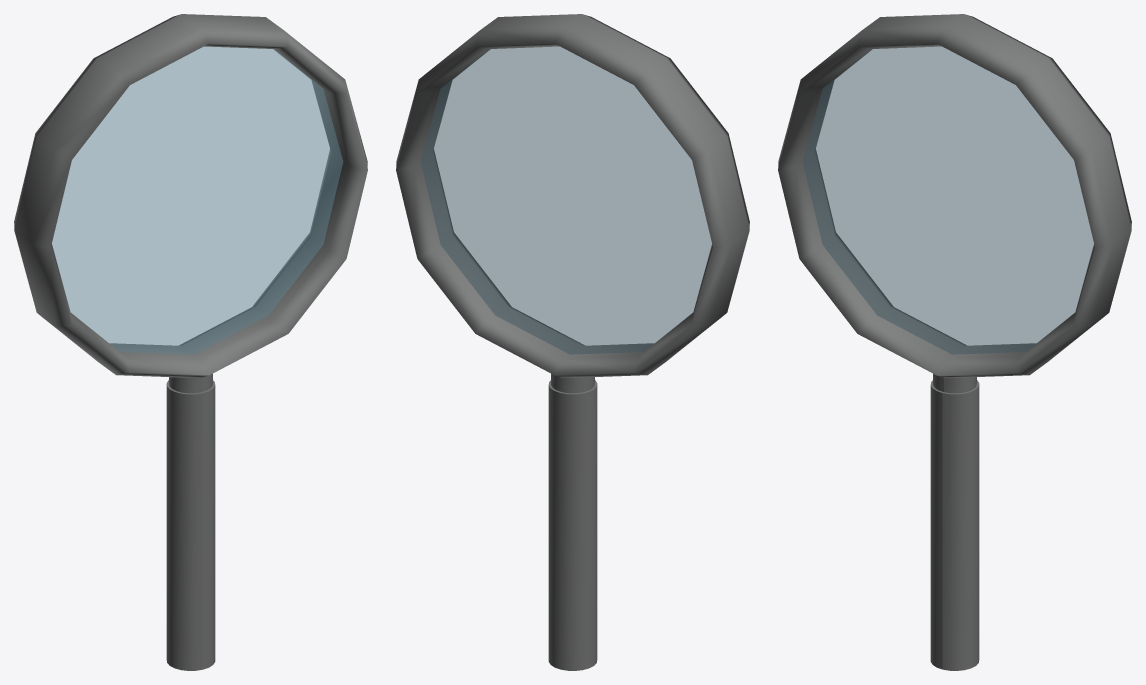
The model's file is Magnifying Glass.glb.
3 renders of one model, left to right at view 1: azimuth 30°, elevation 25°; view 2: azimuth 150°, elevation 25°; view 3: azimuth 330°, elevation 25°, orthographic.
Parts seen in each view (by area): view 1: Cylinder, Torus Patch, Handle1 (×2); view 2: Cylinder, Torus Patch, Handle1 (×2); view 3: Cylinder, Torus Patch, Handle1 (×2).
Part boxes in pixels (<box>): Cylinder: <box>52,46,343,354</box>; Torus Patch: <box>14,14,367,377</box>; Handle1 (×2): <box>166,373,215,670</box>; Cylinder: <box>420,46,711,354</box>; Torus Patch: <box>396,14,749,377</box>; Handle1 (×2): <box>548,373,597,670</box>; Cylinder: <box>802,46,1093,354</box>; Torus Patch: <box>778,14,1131,377</box>; Handle1 (×2): <box>930,373,979,670</box>.
Bounding box in the file's own units: 0.1587 × 0.2894 × 0.03.
